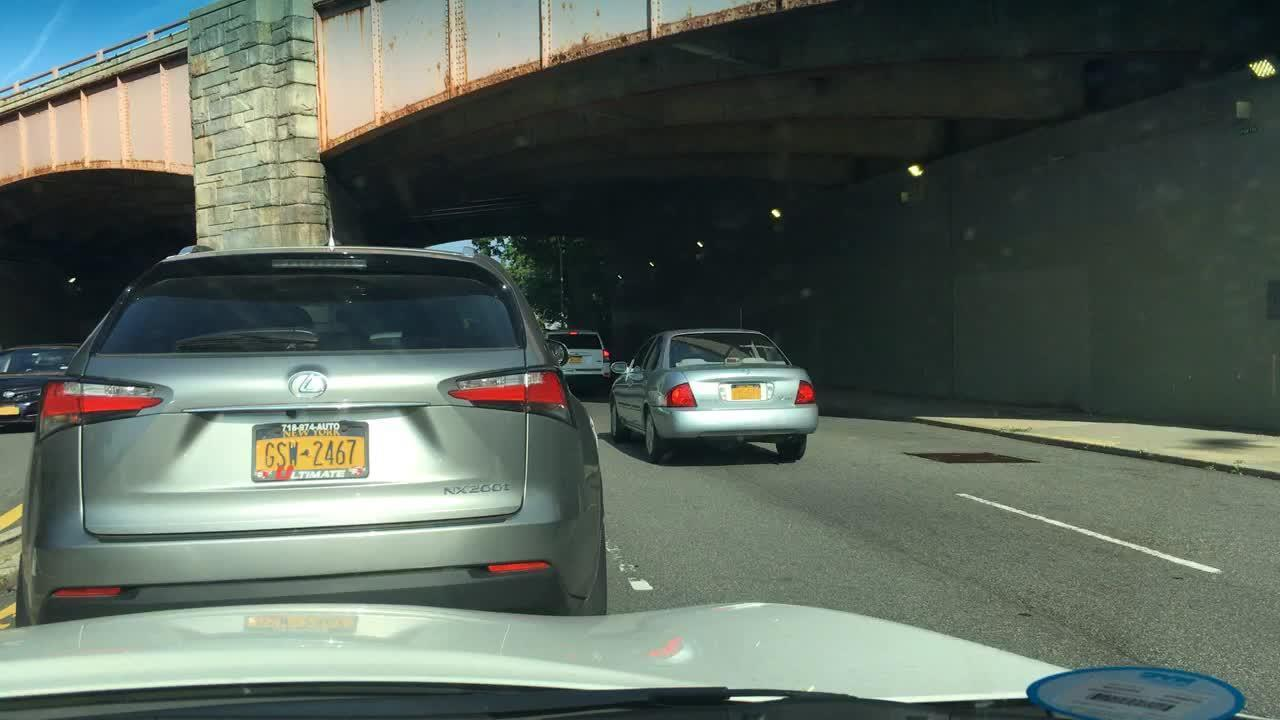lexus: (288, 366, 326, 403)
